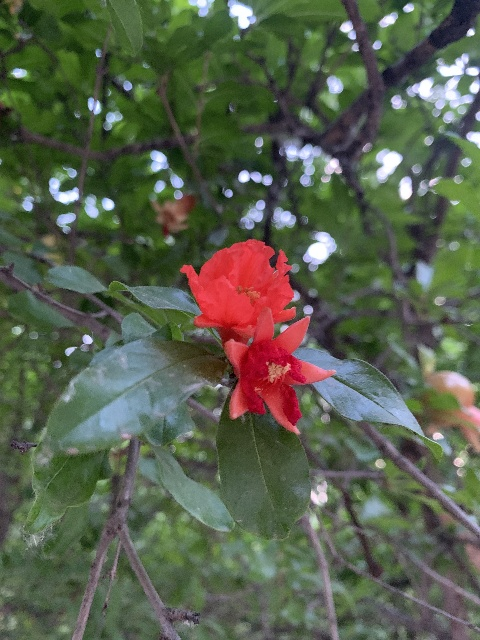flower: (221, 304, 336, 433), (181, 239, 296, 343), (151, 194, 196, 236)
mid-growth: (425, 371, 480, 450)
